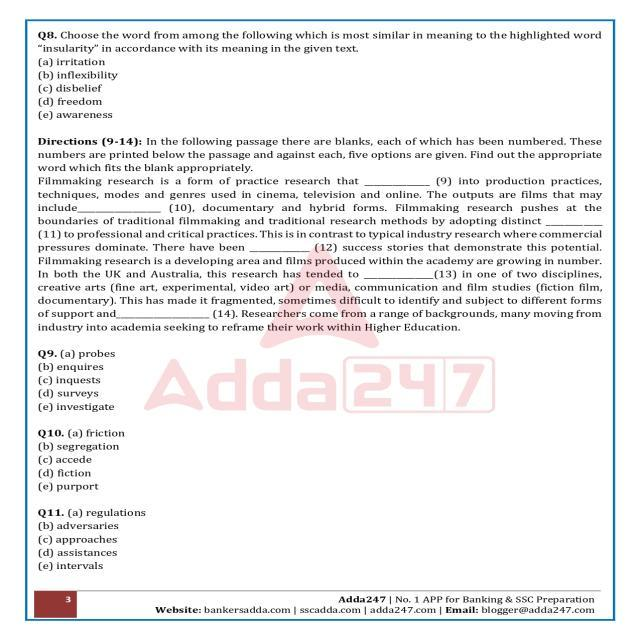Answer_Block: (25, 53, 618, 120), (22, 358, 614, 413), (25, 441, 616, 493), (22, 522, 617, 572)
Question_Answer_Block: (23, 134, 616, 575), (25, 20, 616, 121)
Question_Block: (24, 18, 614, 52), (24, 426, 617, 444), (24, 343, 610, 361), (23, 504, 616, 520)
Question_Paper_Area: (28, 23, 614, 622)
